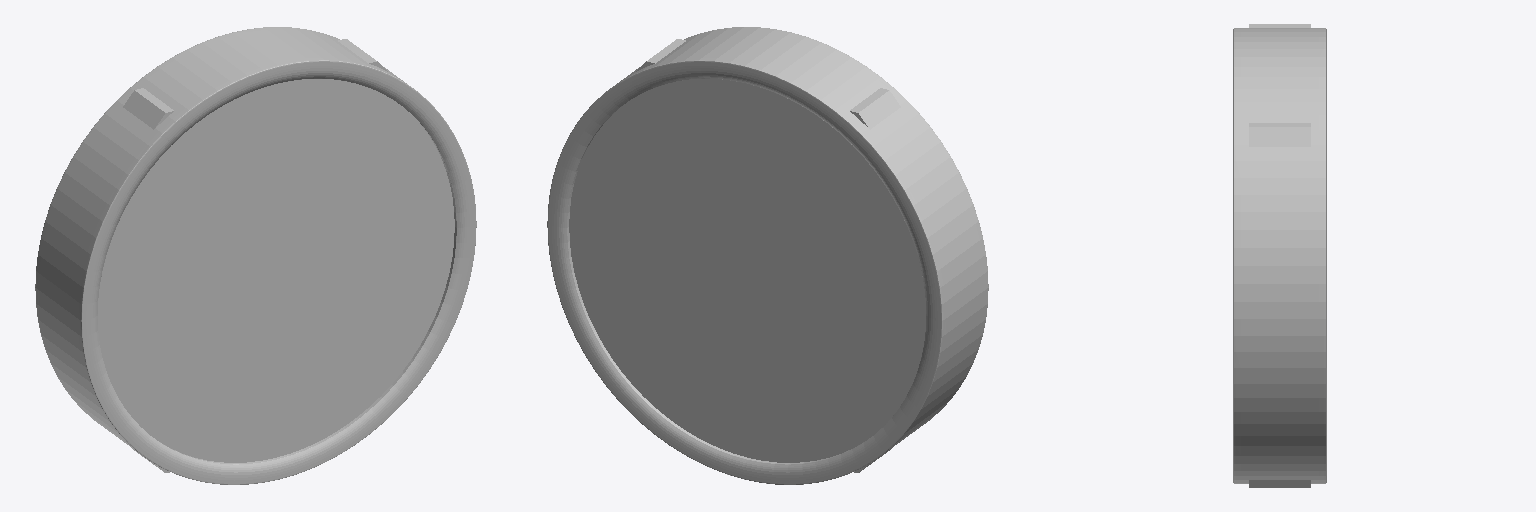
Rendered from testSpeed.obj.
3 renders of one model, left to right at view 1: azimuth 30°, elevation 25°; view 2: azimuth 150°, elevation 25°; view 3: azimuth 270°, elevation 25°, orthographic.
Parts seen in each view (by area): view 1: AU_Display, AU_Base, SU_Base; view 2: AU_Display, AU_Base, SU_Base; view 3: AU_Base, SU_Base.
Boxes of the visible parts, box(x1,y1,x2,y2) form: AU_Display: box(98, 79, 454, 462); AU_Base: box(35, 27, 476, 484); SU_Base: box(123, 39, 387, 472); AU_Display: box(569, 79, 925, 462); AU_Base: box(547, 27, 988, 484); SU_Base: box(636, 39, 900, 472); AU_Base: box(1233, 28, 1326, 483); SU_Base: box(1249, 24, 1310, 487).
Size of the model in its own units: 1.92 by 1.92 by 0.3902.